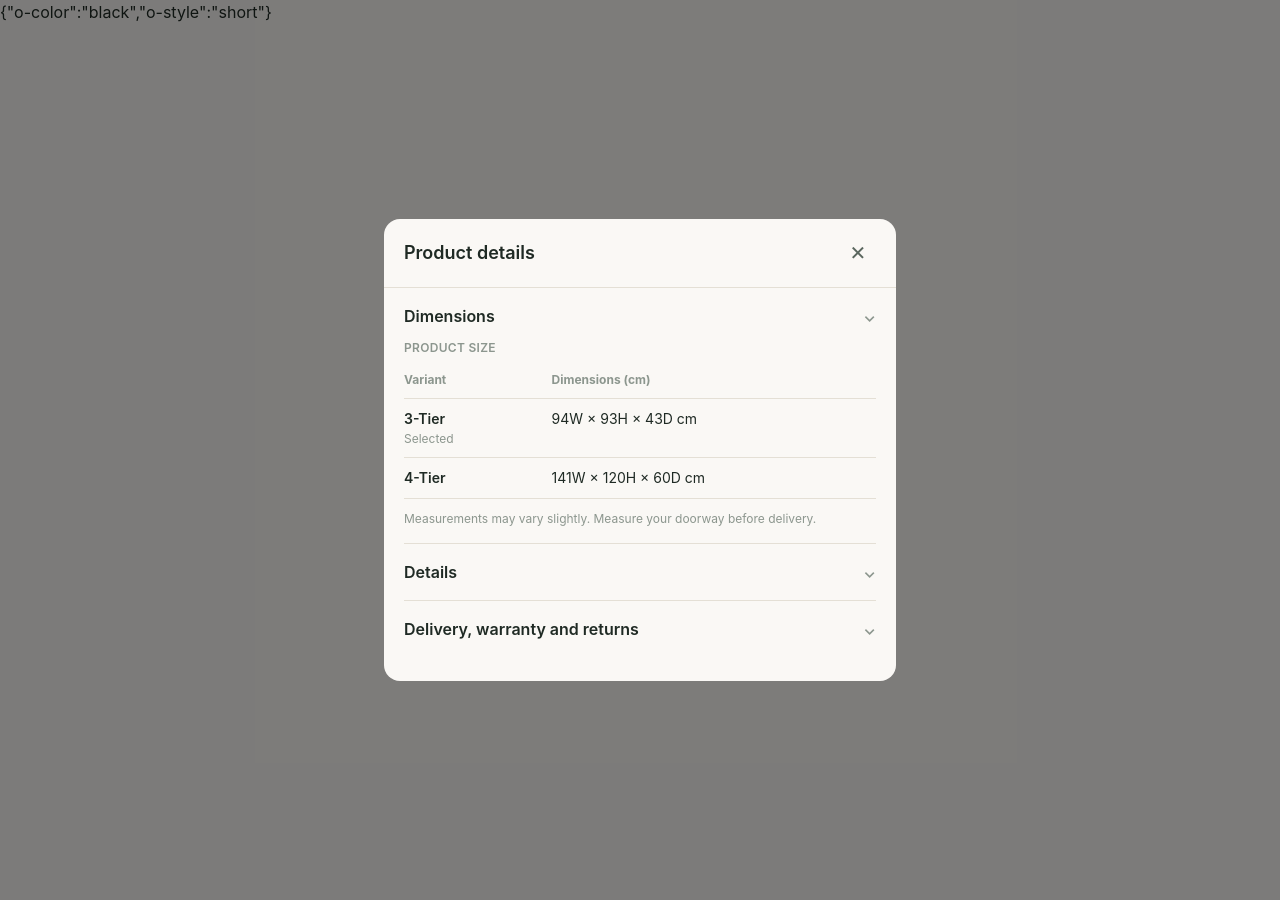
Test: ProductDetailsModal › includes the shared product name and material without repeating size or weight facts
The image size is (1280, 900).
Click the heading "Details ⌄". click: (431, 572)
box: [404,560,876,584]
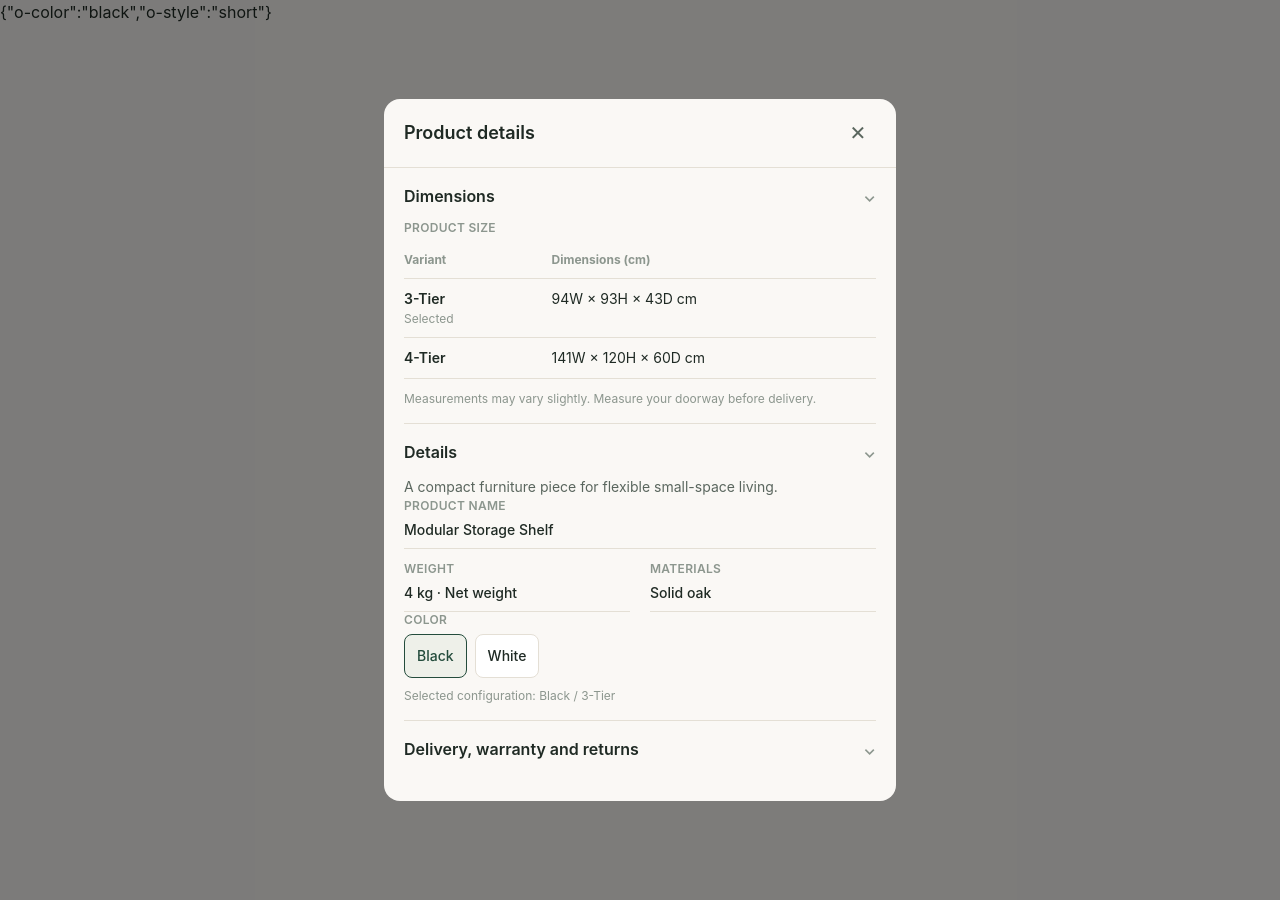
Check: the element showing "Modular Storage Shelf" is shown, box [404,520,876,549]
Check: the element showing "Solid oak" is shown, box [650,583,876,612]
Check: the text "Solid oak" is shown once, box [650,584,711,601]
